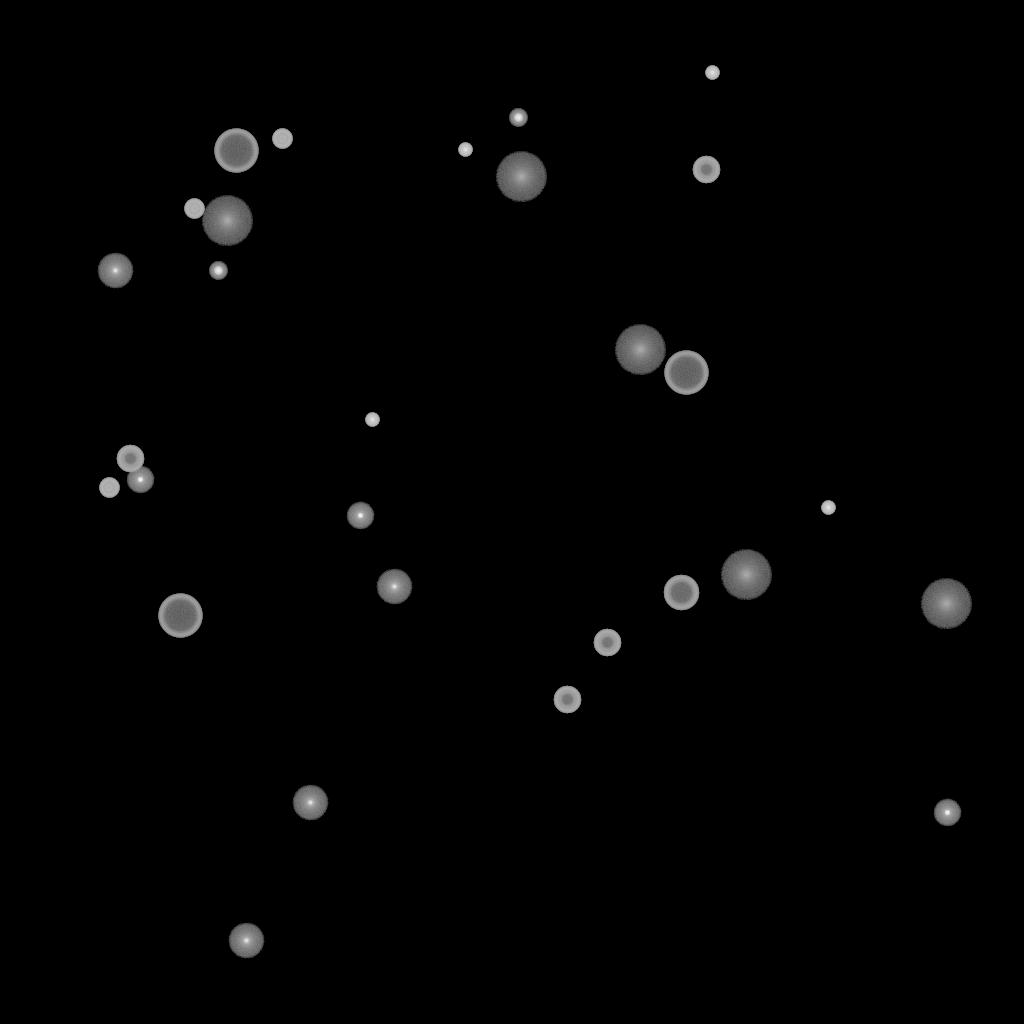depth:-10: (346, 502, 374, 530), (126, 466, 154, 494), (933, 799, 961, 827)
depth:-20: (509, 109, 527, 127), (209, 262, 227, 280)
depth:-30: (705, 66, 719, 80), (458, 143, 472, 157), (365, 413, 379, 427), (821, 501, 835, 515)
depth:-40: (184, 199, 204, 219), (272, 129, 292, 149), (99, 478, 119, 498)
depth:-50: (116, 445, 144, 473), (553, 686, 581, 714), (692, 156, 720, 184), (593, 629, 621, 657)
depth:-60: (663, 575, 699, 611)
depth:-70: (158, 594, 202, 638), (214, 129, 258, 173), (664, 351, 708, 395)
depth:0: (228, 923, 264, 959), (97, 253, 133, 289), (376, 569, 412, 605), (292, 785, 328, 821)
depth:20: (495, 152, 547, 202), (614, 325, 666, 375), (920, 579, 972, 629), (201, 196, 253, 246), (720, 550, 772, 600)
